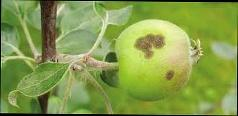rotten apple: (110, 18, 194, 100)
